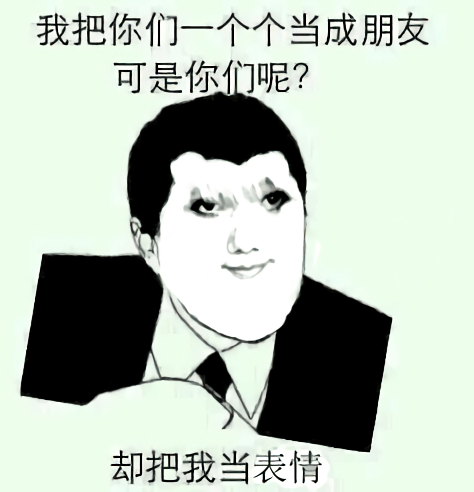dragon: (186, 181, 292, 283)
